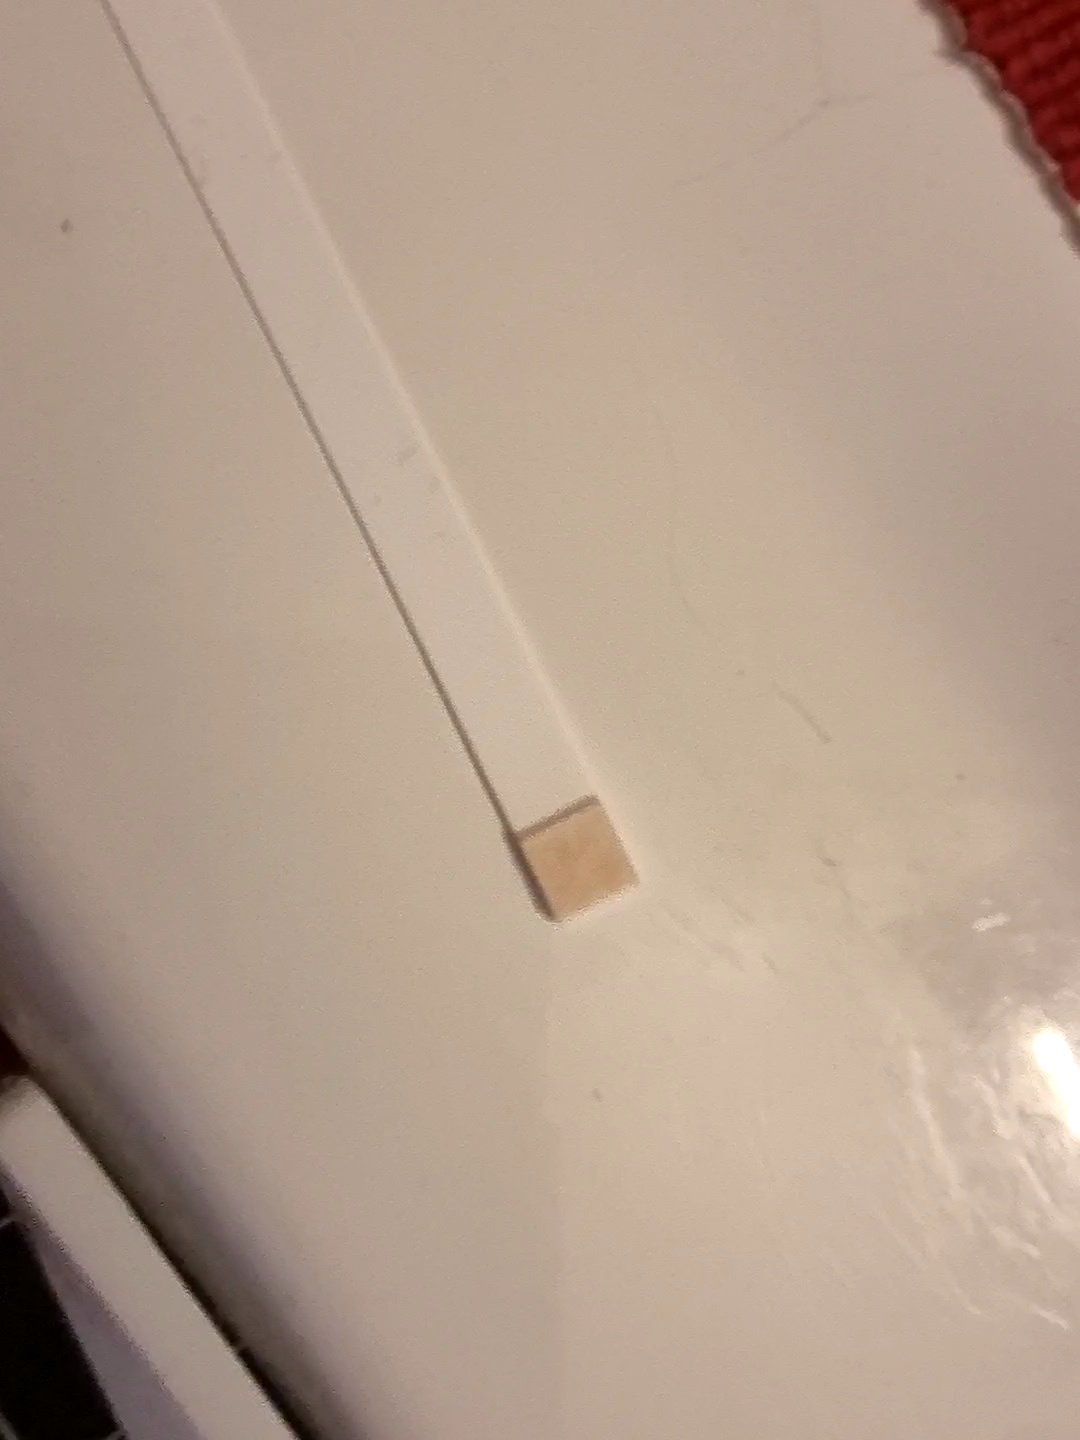keto-tip: (497, 791, 651, 927)
